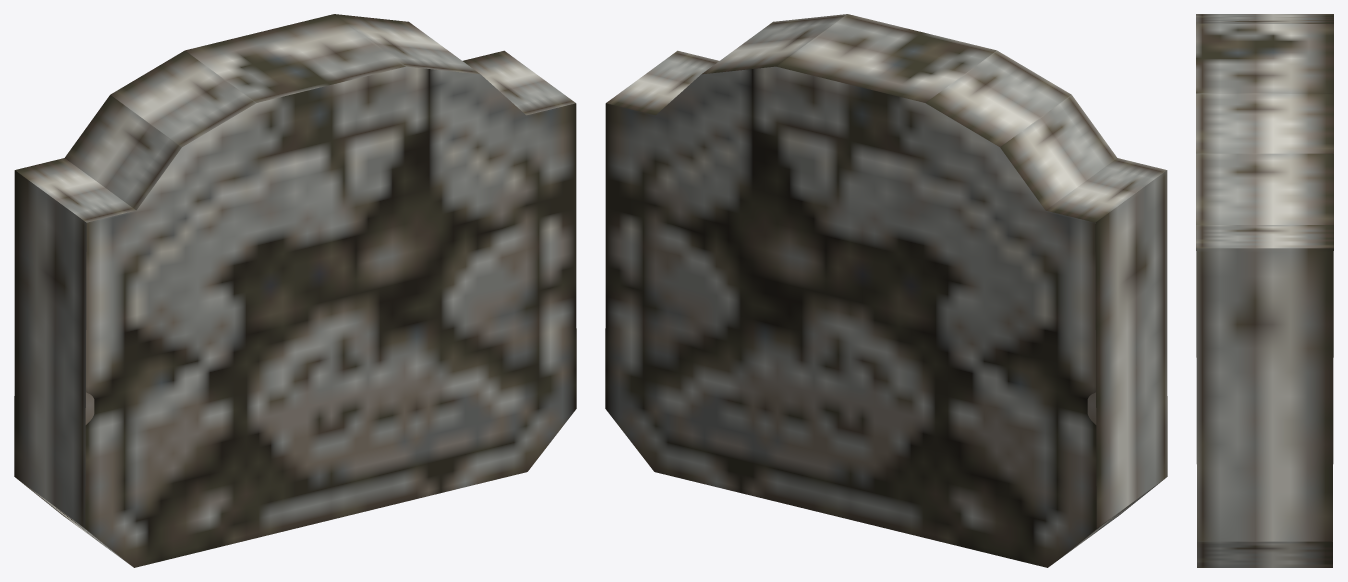
File: Inside_Poly_Stone_Writting_02.obj
3 renders of one model, left to right at view 1: azimuth 30°, elevation 25°; view 2: azimuth 150°, elevation 25°; view 3: azimuth 270°, elevation 25°, orthographic. The views are drawn at different scales.
Visible parts, largest first — view 1: Cube.001; view 2: Cube.001; view 3: Cube.001.
Part boxes in pixels (left/top/right/bottom): Cube.001: left=14, top=14, right=576, bottom=567; Cube.001: left=605, top=14, right=1167, bottom=567; Cube.001: left=1196, top=14, right=1333, bottom=567.
Size of the model in its own units: 1.18 by 1 by 0.3.
Materials: 1 (1 with a texture image).
